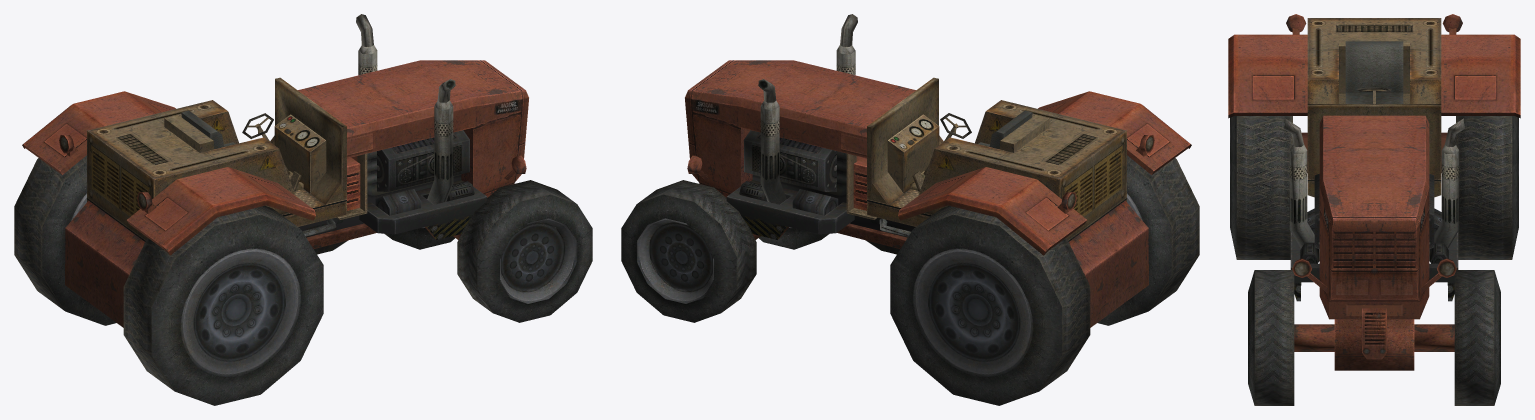
Rendered from Prop_Tractor_lod1.glb.
3 views of the same model, side by side, from view 1: azimuth 30°, elevation 25°; view 2: azimuth 150°, elevation 25°; view 3: azimuth 270°, elevation 25° (orthographic).
Visible parts, largest first — view 1: xiutz_tuolaji_lod1; view 2: xiutz_tuolaji_lod1; view 3: xiutz_tuolaji_lod1.
Boxes of the visible parts, x1=… form: xiutz_tuolaji_lod1: x1=14, y1=14, x2=592, y2=405; xiutz_tuolaji_lod1: x1=621, y1=14, x2=1199, y2=405; xiutz_tuolaji_lod1: x1=1228, y1=14, x2=1520, y2=405.
Bounding box in the file's own units: 4.91 × 2.56 × 2.76.
1 material, 1 textured.
